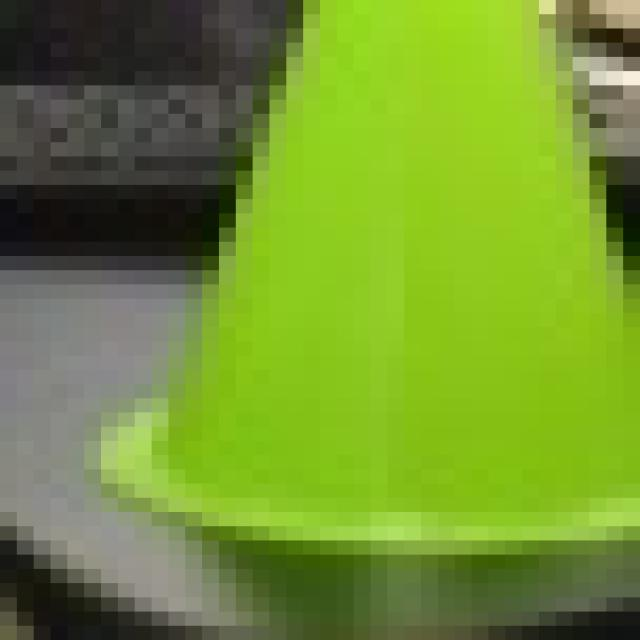cono: (59, 0, 640, 578)
